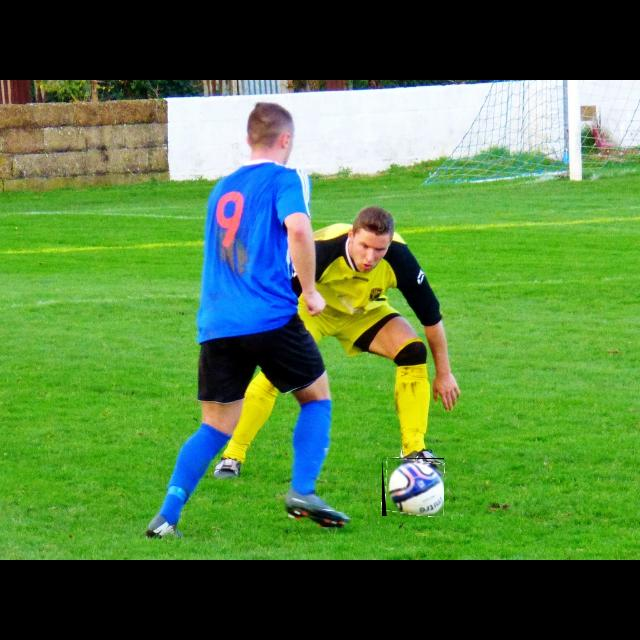Football: (382, 458, 444, 516)
